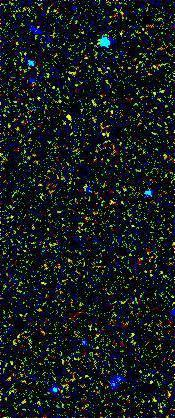star: (53, 104, 83, 134)
